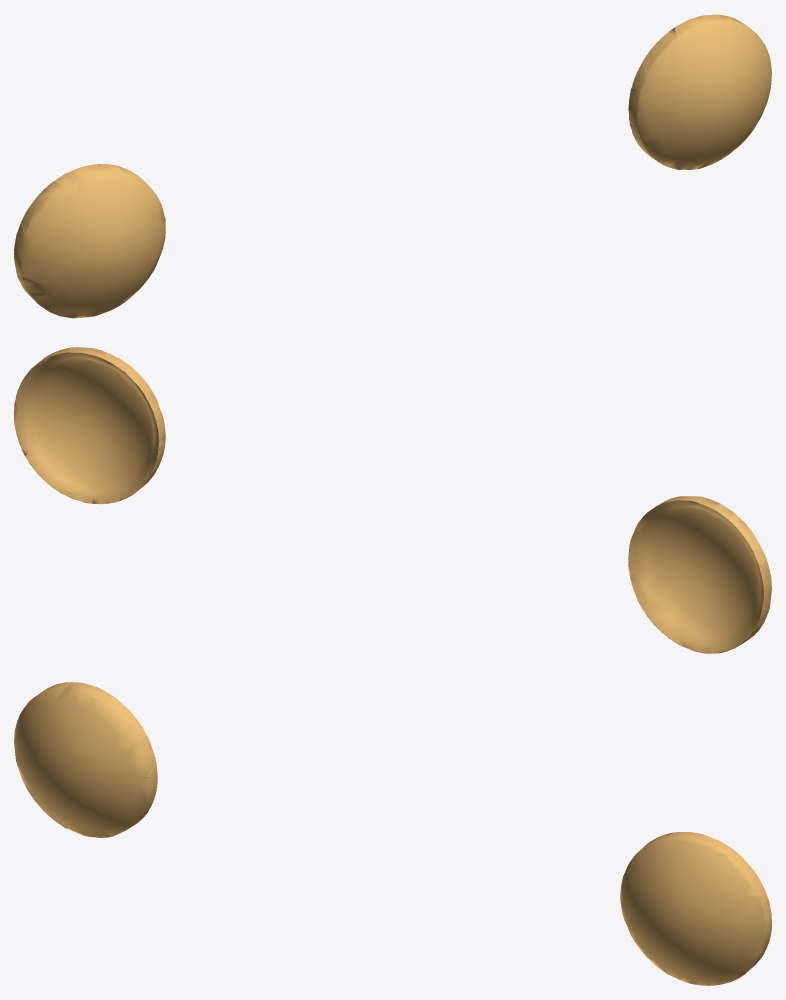
The model's file is cornea.glb.
3 views of the same model, one above another, from view 1: azimuth 30°, elevation 25°; view 2: azimuth 150°, elevation 25°; view 3: azimuth 330°, elevation 25° (orthographic).
Parts seen in each view (by area): view 1: cornea; view 2: cornea; view 3: cornea.
Boxes of the visible parts, x1,y1,x2,y2 form: cornea: (14, 14, 771, 318); cornea: (14, 347, 771, 653); cornea: (14, 682, 771, 985).
Bounding box in the file's own units: 0.075 × 0.0141 × 0.00488.
